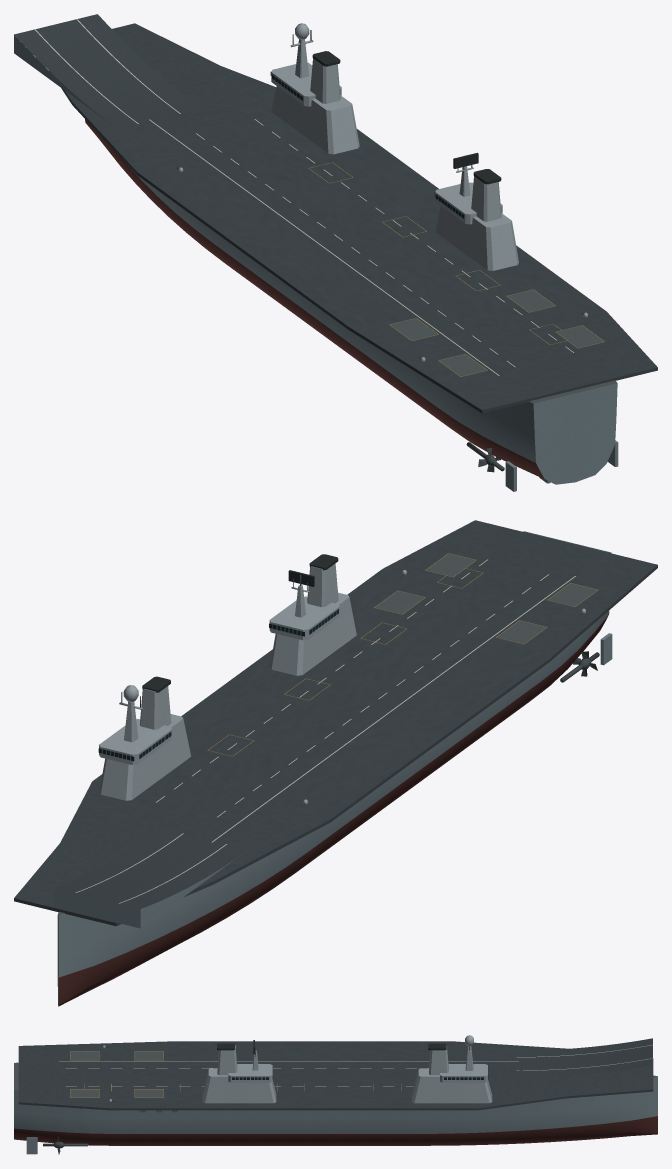
The model's file is wings_queen_elizabeth_class.glb.
3 renders of one model, top to bottom at view 1: azimuth 30°, elevation 25°; view 2: azimuth 150°, elevation 25°; view 3: azimuth 270°, elevation 25°, orthographic. The views are drawn at different scales.
Parts seen in each view (by area): view 1: static_hull_deck_superstructure; view 2: static_hull_deck_superstructure; view 3: static_hull_deck_superstructure.
Part boxes in pixels (x1,y1,x2,y2): static_hull_deck_superstructure: (14, 14, 657, 491); static_hull_deck_superstructure: (14, 520, 657, 1006); static_hull_deck_superstructure: (14, 1035, 657, 1154).
Bounding box in the file's own units: 70 × 61.46 × 284.
1 material, 1 textured.
